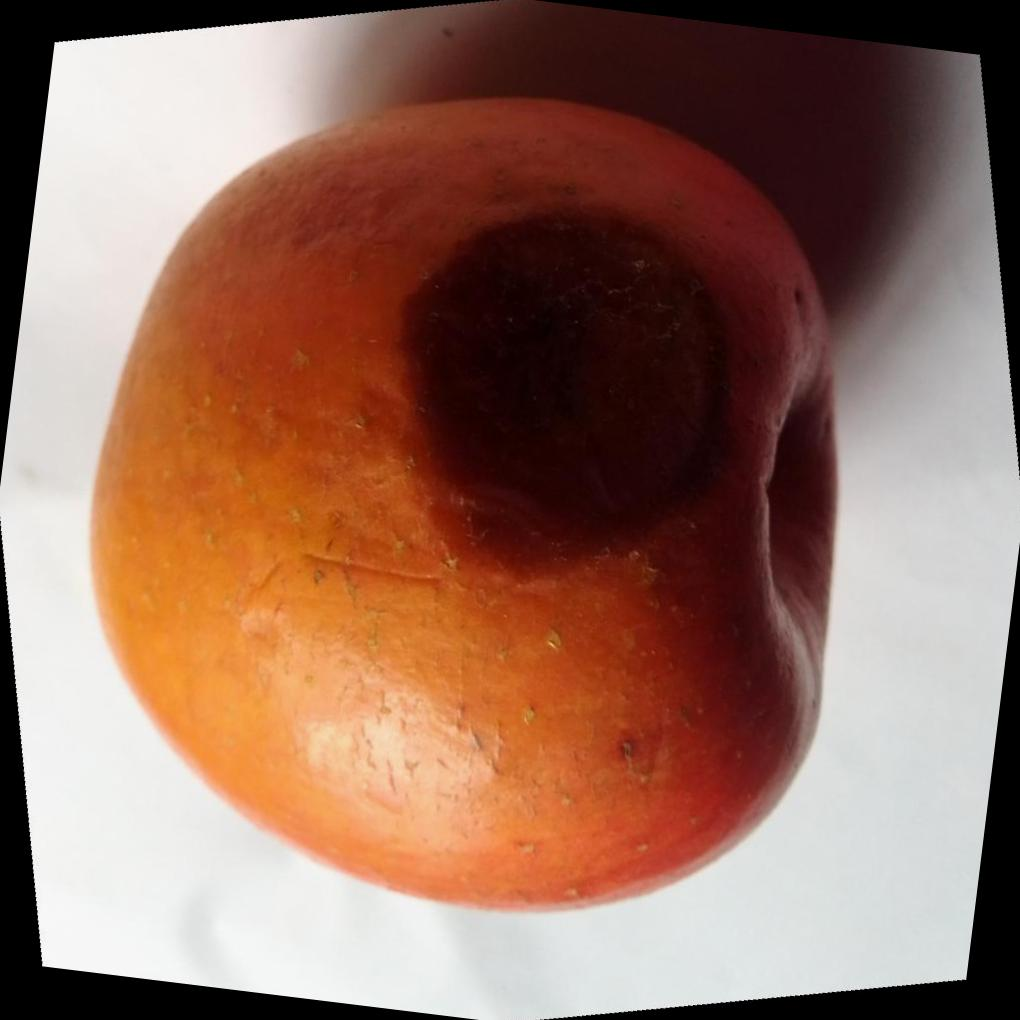FreshOrange: (86, 90, 842, 912)
